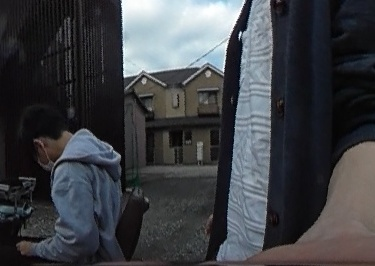person: (1, 99, 126, 266)
